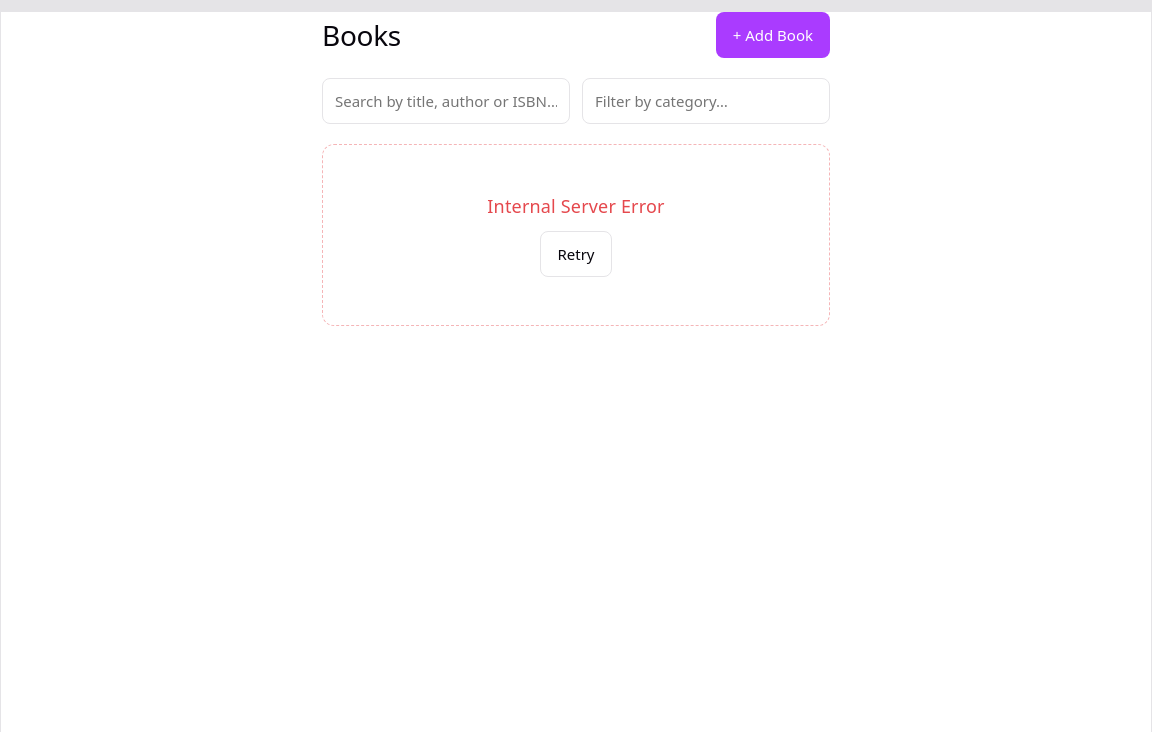
Test case: BooksPage › shows the backend's error message (never a stacktrace) and recovers via Retry
The width and height of the screenshot is (1152, 732).
Expected: the text "Internal Server Error" is shown, [487,193,665,219]
Click the button "Retry" at [576, 254], box [540,231,612,277]
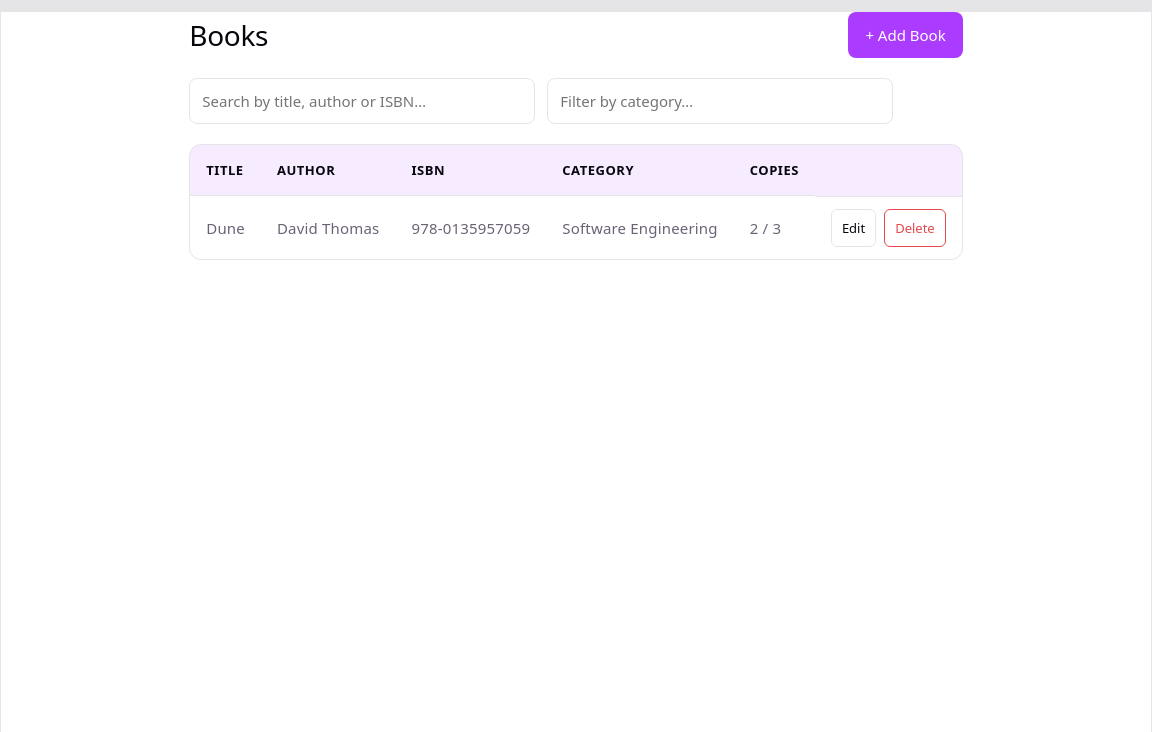
Expected: the text "Dune" is shown, [190,196,261,259]
